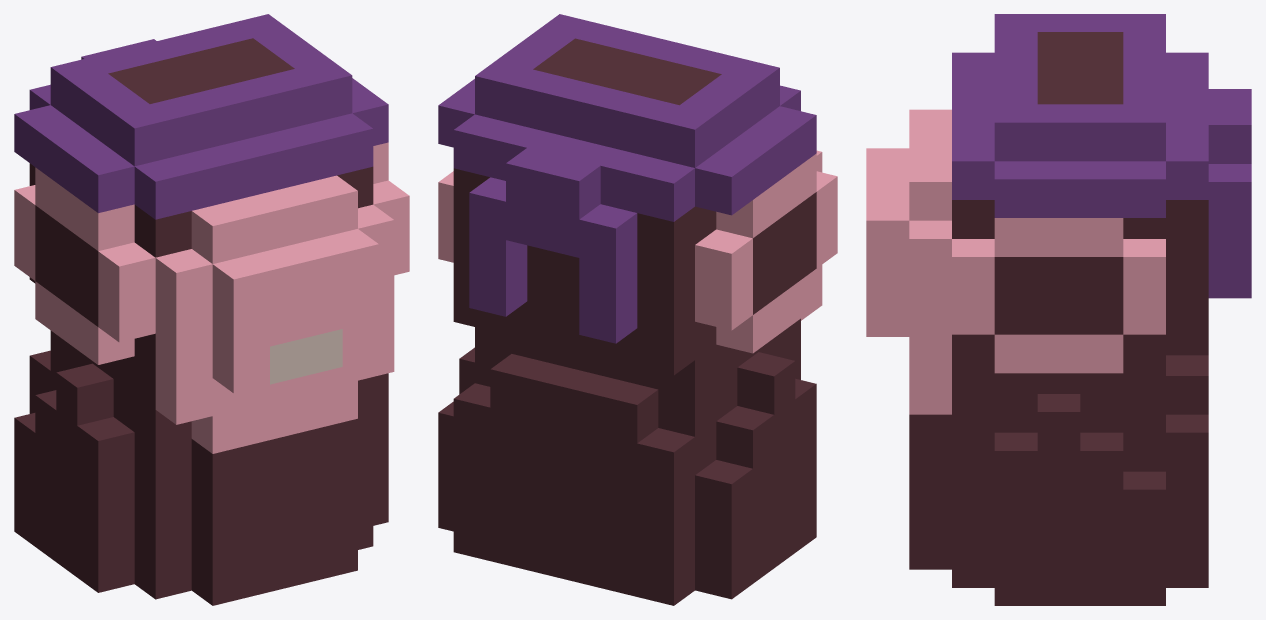
File: anim_player_snowwomen_body.obj
The picture shows the model from 3 angles, left to right: view 1: azimuth 30°, elevation 25°; view 2: azimuth 150°, elevation 25°; view 3: azimuth 270°, elevation 25°; orthographic projection. The views are drawn at different scales.
Size of the model in its own units: 0.8 by 1.2 by 0.9.
1 material, 1 textured.
